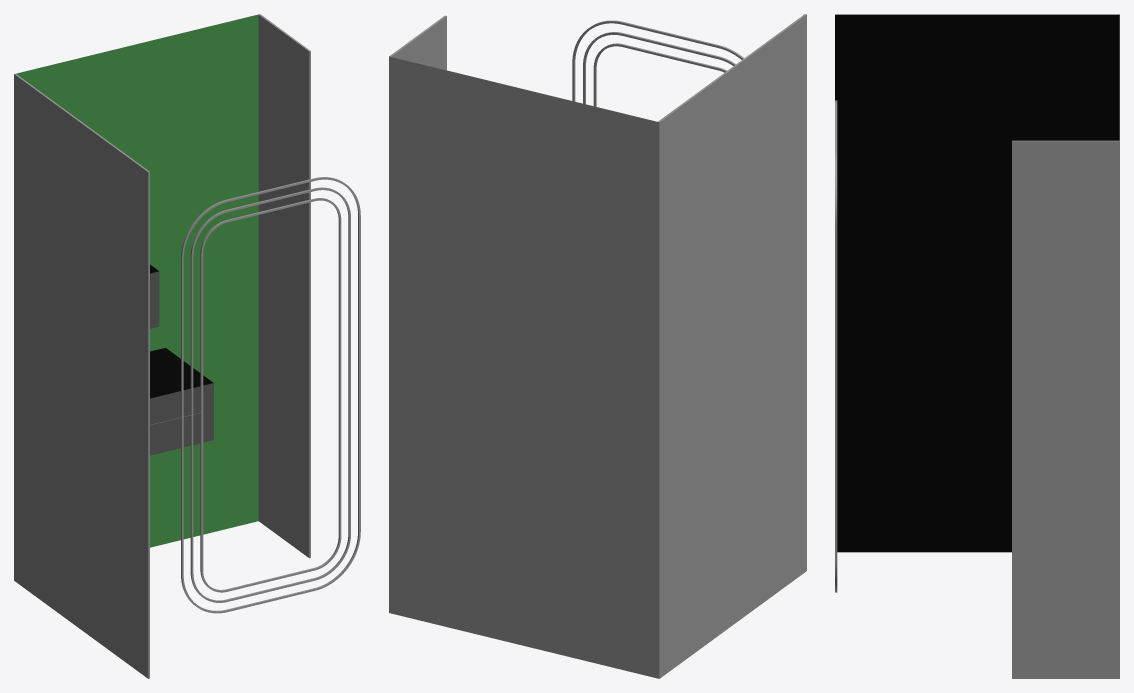
File: kitchen.obj
The picture shows the model from 3 angles, left to right: view 1: azimuth 30°, elevation 25°; view 2: azimuth 150°, elevation 25°; view 3: azimuth 270°, elevation 25°; orthographic projection. The views are drawn at different scales.
Visible parts, largest first — view 1: Body6; view 2: Body6; view 3: Body6.
Boxes of the visible parts, x1,y1,x2,y2 form: Body6: (14, 14, 360, 678); Body6: (389, 14, 806, 678); Body6: (835, 14, 1119, 678).
Size of the model in its own units: 2.8 by 5.5 by 2.64.
